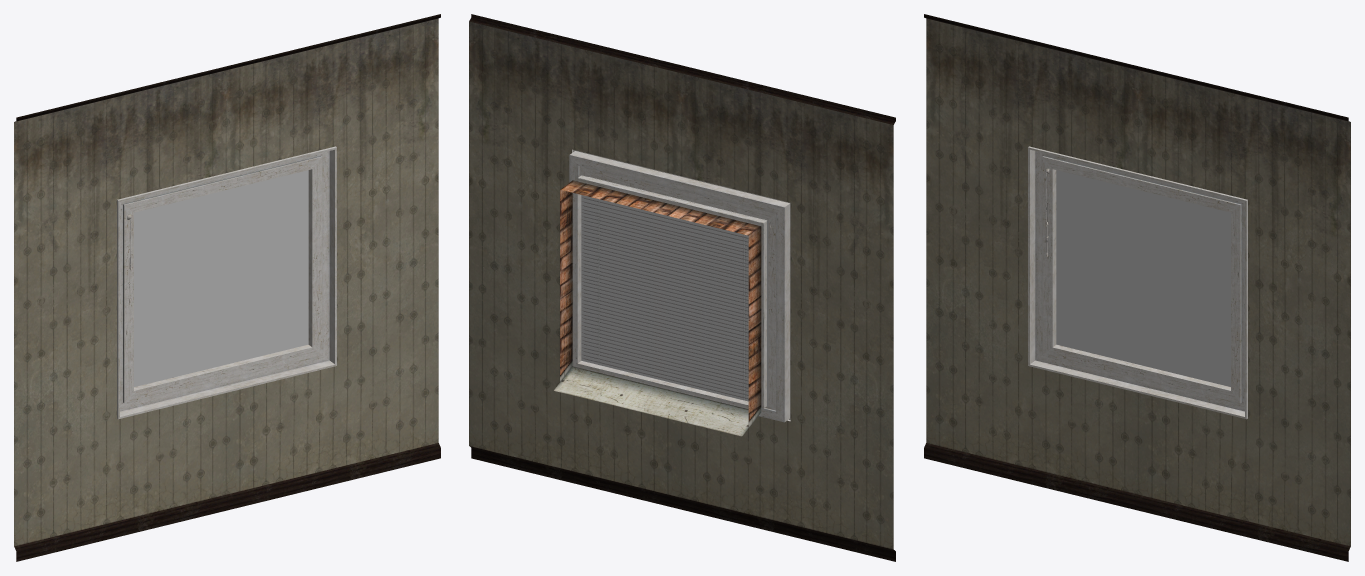
The model's file is hallway_damaged_flat_window.dae.
The picture shows the model from 3 angles, left to right: view 1: azimuth 30°, elevation 25°; view 2: azimuth 150°, elevation 25°; view 3: azimuth 330°, elevation 25°; orthographic projection.
Visible parts, largest first — view 1: polySurface623, pPlane13, polySurface626; view 2: polySurface623, polySurface626, pPlane13, polySurface627; view 3: polySurface623, pPlane13, polySurface626.
Boxes of the visible parts, x1,y1,x2,y2 form: polySurface623: [14, 14, 440, 561]; pPlane13: [134, 170, 308, 386]; polySurface626: [117, 146, 336, 419]; polySurface623: [469, 14, 895, 561]; polySurface626: [554, 149, 790, 436]; pPlane13: [580, 175, 768, 406]; polySurface627: [581, 197, 748, 400]; polySurface623: [924, 14, 1350, 561]; pPlane13: [1056, 170, 1230, 386]; polySurface626: [1028, 146, 1247, 419].
Bounding box in the file's own units: 4 × 4 × 0.5829.
